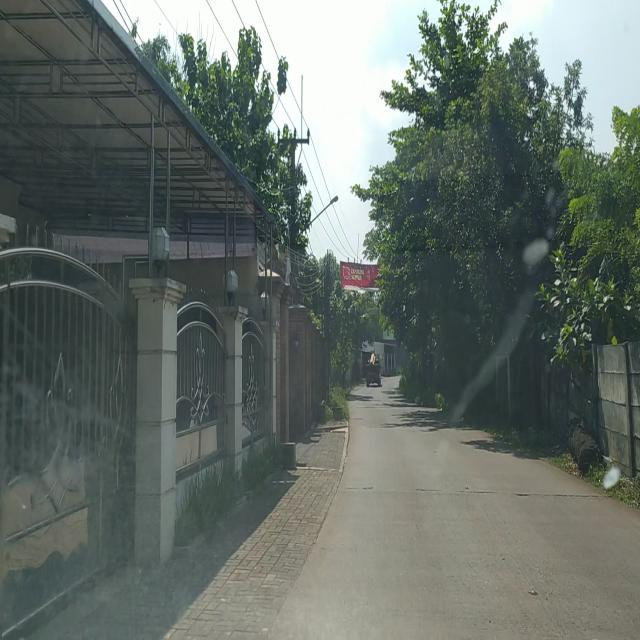Sewer Cover: (345, 482, 607, 502)
